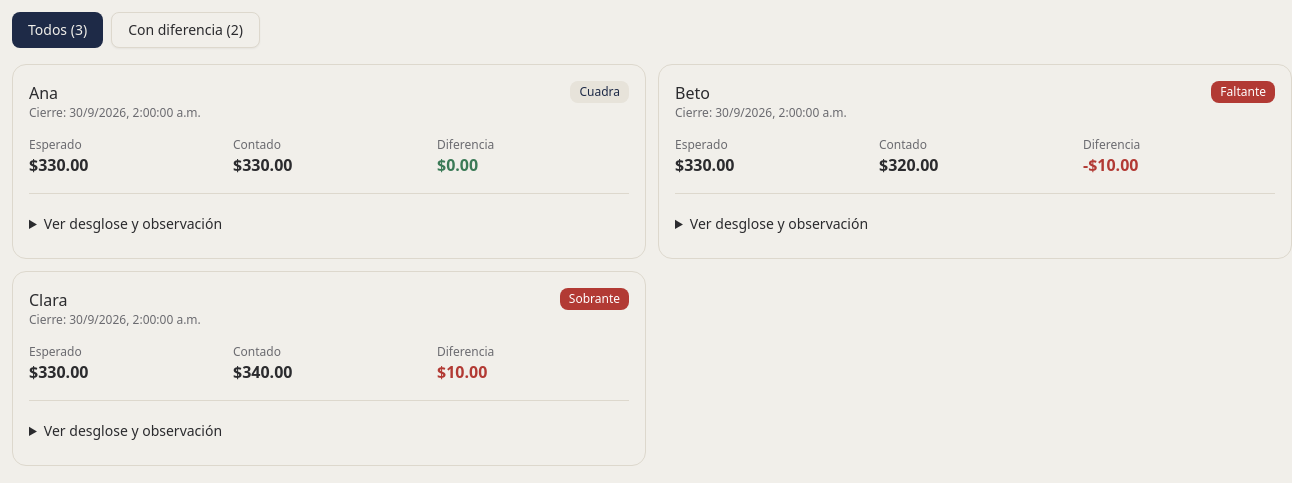
it: mantiene faltantes y sobrantes visibles aunque se compensen entre sí
Step 1. Click the button "Con diferencia (2)" → click(186, 30), box [111,12,260,48]
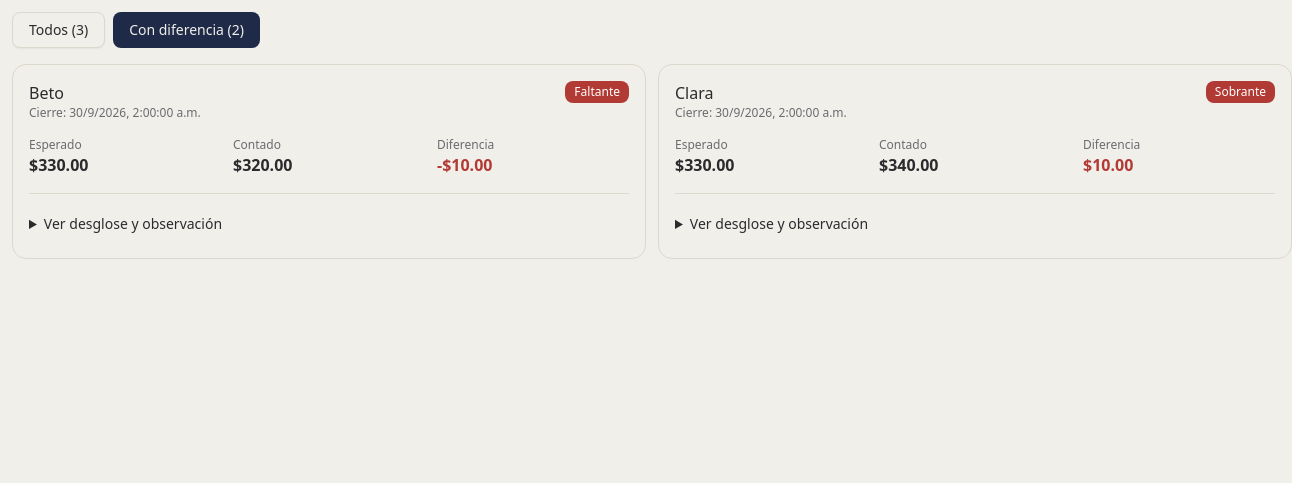
Expected: the heading "Beto" is shown, [29,82,64,104]
Now the heading "Ana" is gone
Step 2. Click the button "Todos (3)" → click(59, 30), box [12,12,105,48]
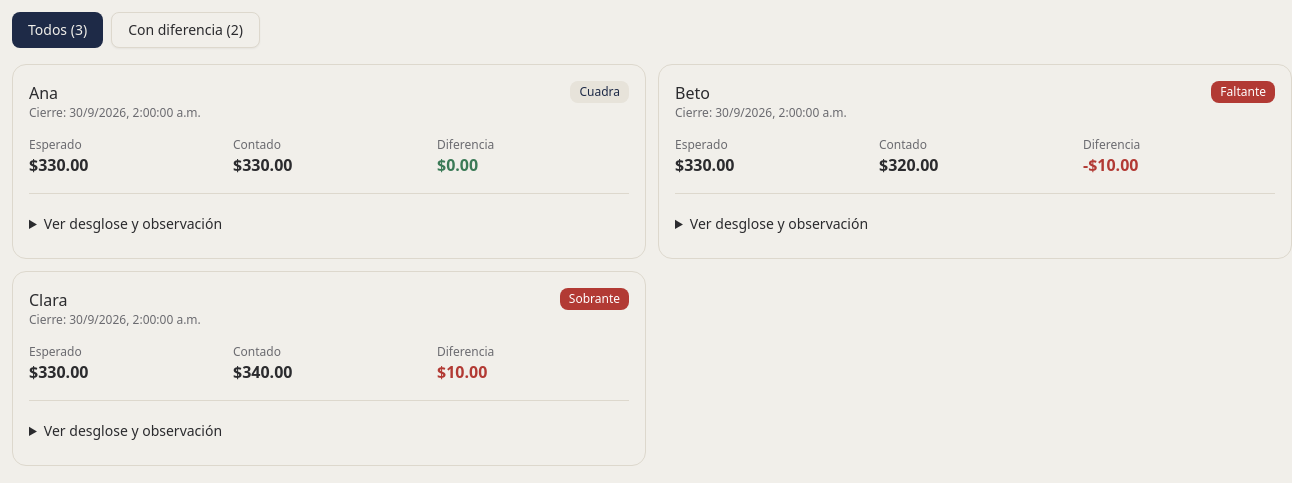
Now the heading "Ana" is shown, box [29,82,58,104]
